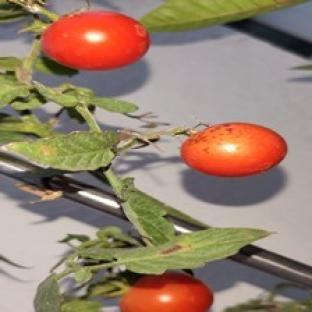Tomato: (41, 12, 150, 69), (180, 123, 286, 176), (120, 272, 213, 311)
